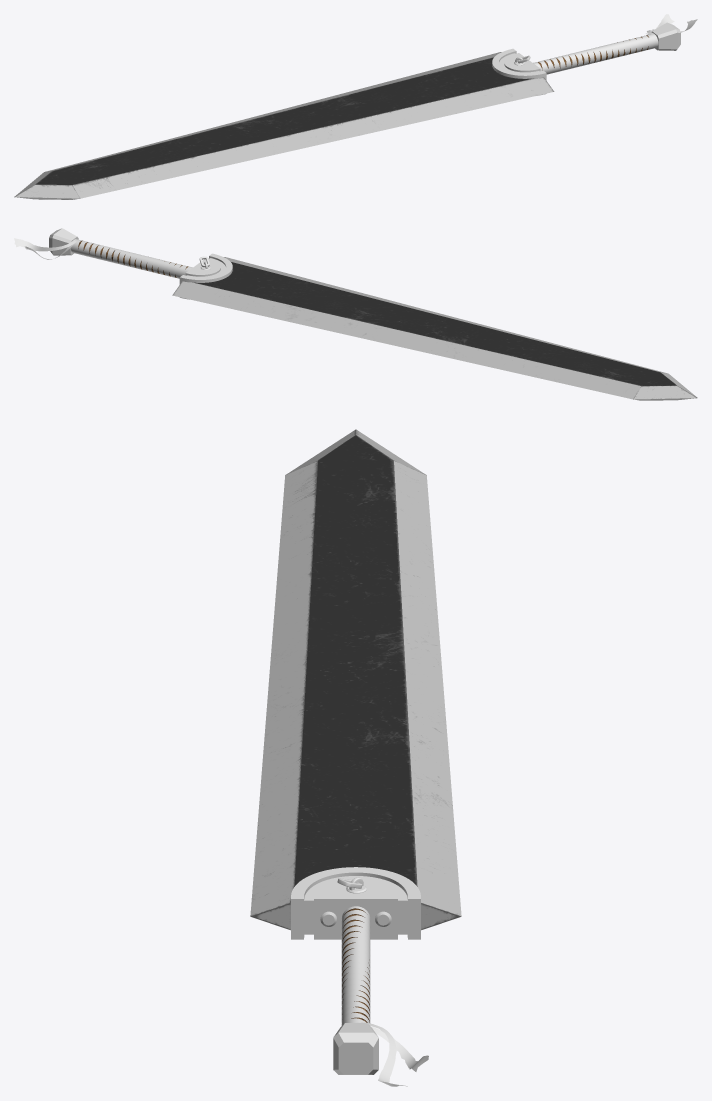
The model's file is DragonSlayer3_0.fbx.
3 renders of one model, top to bottom at view 1: azimuth 30°, elevation 25°; view 2: azimuth 150°, elevation 25°; view 3: azimuth 270°, elevation 25°, orthographic. The views are drawn at different scales.
Parts seen in each view (by area): view 1: Dragon_Slayer; view 2: Dragon_Slayer; view 3: Dragon_Slayer.
Part boxes in pixels (x1,y1,x2,y2): Dragon_Slayer: (14,14,697,199); Dragon_Slayer: (14,228,697,400); Dragon_Slayer: (250,429,461,1086).
Bounding box in the file's own units: 2571 × 102 × 349.
